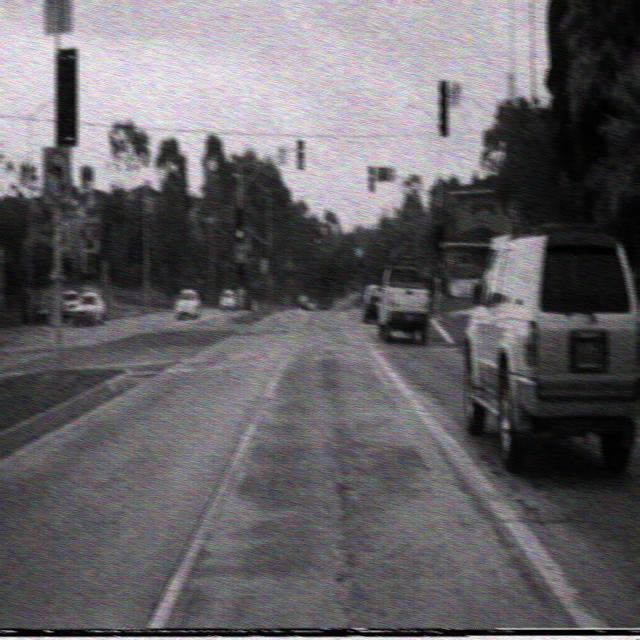noLeftTurn: (41, 145, 72, 202)
